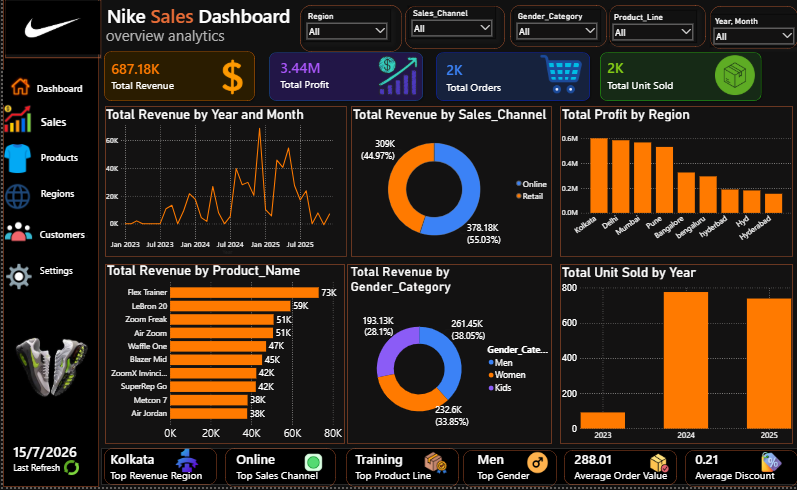

The dashboard page shown, as its layout file describes it:
{"tool":"powerbi","page":{"name":"Page 1","canvas":[2270,1400],"ordinal":0},"visuals":[{"type":"shape","box":[1591.4,311.4,665.7,431.4],"z":0},{"type":"shape","box":[848.6,22.9,291.4,134.3],"z":1000},{"type":"shape","box":[1148.6,25.7,285.7,122.9],"z":2000},{"type":"shape","box":[1448.6,22.9,277.1,120],"z":3000},{"type":"shape","box":[1731.4,22.9,277.1,120],"z":4000},{"type":"shape","box":[2020,25.7,251.4,122.9],"z":5000},{"type":"shape","box":[280,1288.6,1991.4,105.7],"z":6000},{"type":"shape","box":[288.6,1288.6,322.9,105.7],"z":7000},{"type":"shape","box":[634.3,1288.6,317.1,111.4],"z":8000},{"type":"shape","box":[980,1288.6,322.9,111.4],"z":9000},{"type":"shape","box":[1314.3,1294.3,268.6,105.7],"z":10000},{"type":"shape","box":[1602.9,1294.3,322.9,100],"z":11000},{"type":"shape","box":[1948.6,1294.3,322.9,105.7],"z":12000},{"type":"shape","box":[1591.4,762.9,665.7,514.3],"z":13000},{"type":"shape","box":[994.3,762.9,574.3,514.3],"z":14000},{"type":"shape","box":[291.4,762.9,685.7,514.3],"z":15000},{"type":"shape","box":[994.3,311.4,574.3,431.4],"z":16000},{"type":"shape","box":[291.4,311.4,691.4,431.4],"z":17000},{"type":"shape","box":[0,0,274.3,1400],"z":18000},{"type":"image","box":[5.9,0,244.1,220.6],"z":19000},{"type":"image","box":[0,174.3,100,168.6],"z":20000},{"type":"textbox","box":[91.4,237.1,151.4,60],"z":21000},{"type":"image","box":[0,305.7,82.9,82.9],"z":22000},{"type":"textbox","box":[102.9,328.6,131.4,60],"z":23000},{"type":"image","box":[0,420,82.9,82.9],"z":24000},{"type":"textbox","box":[102.9,434.3,131.4,57.1],"z":25000},{"type":"image","box":[0,528.6,82.9,82.9],"z":26000},{"type":"textbox","box":[102.9,537.1,131.4,62.9],"z":27000},{"type":"textbox","box":[100,770.6,173.5,58.8],"z":28000},{"type":"image","box":[2.9,628.6,82.9,82.9],"z":29000},{"type":"image","box":[0,757.1,91.4,82.9],"z":30000},{"type":"textbox","box":[100,654.3,174.3,57.1],"z":31000},{"type":"image","box":[0,840,274.3,437.1],"z":32000},{"type":"textbox","box":[289.8,73.6,549.7,73.6],"z":33000},{"type":"textbox","box":[290.6,10,558.9,103.5],"z":34000},{"type":"slicer","fields":{"Values":["Nike_Sales_Uncleaned.Region"]},"box":[857.1,34.3,251.4,94.3],"z":35000},{"type":"slicer","fields":{"Values":["Nike_Sales_Uncleaned.Sales_Channel"]},"box":[1157.1,25.7,251.4,94.3],"z":36000},{"type":"slicer","fields":{"Values":["Nike_Sales_Uncleaned.Gender_Category"]},"box":[1457.1,34.3,251.4,94.3],"z":37000},{"type":"slicer","fields":{"Values":["Nike_Sales_Uncleaned.Product_Line"]},"box":[1731.4,37.1,251.4,94.3],"z":38000},{"type":"shape","box":[751.5,148.5,457.6,157.6],"z":39000},{"type":"shape","box":[278.8,145.5,448.5,160.6],"z":40000},{"type":"shape","box":[1227.3,148.5,457.6,157.6],"z":41000},{"type":"shape","box":[1697,148.5,478.8,157.6],"z":42000},{"type":"cardVisual","fields":{"Data":["Nike_Sales_Uncleaned.Total Revenue"]},"box":[278.8,160.6,245.5,127.3],"z":43000},{"type":"cardVisual","fields":{"Data":["Nike_Sales_Uncleaned.Total Profit"]},"box":[762.9,157.1,451.4,128.6],"z":44000},{"type":"cardVisual","fields":{"Data":["Nike_Sales_Uncleaned.Total Orders"]},"box":[1237.1,148.6,420,157.1],"z":45000},{"type":"cardVisual","fields":{"Data":["Nike_Sales_Uncleaned.Total Unit Sold"]},"box":[1697,148.5,451.5,148.5],"z":46000},{"type":"lineChart","fields":{"Category":["Nike_Sales_Uncleaned.Order_Date.Variation.Date Hierarchy.Year","Nike_Sales_Uncleaned.Order_Date.Variation.Date Hierarchy.Month"],"Y":["Nike_Sales_Uncleaned.Total Revenue"]},"box":[288.6,311.4,688.6,431.4],"z":47000},{"type":"donutChart","fields":{"Category":["Nike_Sales_Uncleaned.Sales_Channel"],"Y":["Nike_Sales_Uncleaned.Total Revenue"]},"box":[994.3,311.4,574.3,431.4],"z":48000},{"type":"clusteredBarChart","fields":{"Category":["Nike_Sales_Uncleaned.Product_Name"],"Y":["Nike_Sales_Uncleaned.Total Revenue"]},"box":[291.4,762.9,691.4,514.3],"z":49000},{"type":"columnChart","fields":{"Y":["Nike_Sales_Uncleaned.Total Unit Sold"],"Category":["Nike_Sales_Uncleaned.Order_Date.Variation.Date Hierarchy.Year","Nike_Sales_Uncleaned.Order_Date.Variation.Date Hierarchy.Month"]},"box":[1591.4,762.9,665.7,514.3],"z":50000},{"type":"columnChart","fields":{"Category":["Nike_Sales_Uncleaned.Region"],"Y":["Nike_Sales_Uncleaned.Total Profit"]},"box":[1591.4,311.4,665.7,411.4],"z":51000},{"type":"donutChart","fields":{"Category":["Nike_Sales_Uncleaned.Gender_Category"],"Y":["Nike_Sales_Uncleaned.Total Revenue"]},"box":[994.3,762.9,574.3,514.3],"z":52000},{"type":"image","box":[602.9,160,105.7,137.1],"z":53000},{"type":"image","box":[1071.4,160,114.3,128.6],"z":54000},{"type":"image","box":[1531.4,154.3,125.7,131.4],"z":55000},{"type":"image","box":[2034.3,157.1,114.3,131.4],"z":56000},{"type":"cardVisual","fields":{"Data":["Nike_Sales_Uncleaned.Last Refresh"]},"box":[0,1237.1,251.4,157.1],"z":57000},{"type":"slicer","fields":{"Values":["Nike_Sales_Uncleaned.Order_Date.Variation.Date Hierarchy.Year","Nike_Sales_Uncleaned.Order_Date.Variation.Date Hierarchy.Month"]},"box":[2020,48.6,251.4,94.3],"z":58000},{"type":"cardVisual","fields":{"Data":["Nike_Sales_Uncleaned.Top Revenue Region"]},"box":[277.1,1277.1,325.7,122.9],"z":59000},{"type":"cardVisual","fields":{"Data":["Nike_Sales_Uncleaned.Top Sales Channel"]},"box":[637.1,1277.1,317.1,122.9],"z":60000},{"type":"cardVisual","fields":{"Data":["Nike_Sales_Uncleaned.Top Product Line"]},"box":[977.1,1277.1,328.6,122.9],"z":61000},{"type":"cardVisual","fields":{"Data":["Nike_Sales_Uncleaned.Top Gender"]},"box":[1325.7,1277.1,222.9,122.9],"z":62000},{"type":"cardVisual","fields":{"Data":["Nike_Sales_Uncleaned.Average Discount"]},"box":[1948.6,1277.1,322.9,122.9],"z":63000},{"type":"cardVisual","fields":{"Data":["Nike_Sales_Uncleaned.Average Order Value"]},"box":[1602.9,1277.1,334.3,122.9],"z":64000},{"type":"image","box":[485.7,1288.6,80,71.4],"z":65000},{"type":"image","box":[840,1302.9,94.3,54.3],"z":66000},{"type":"image","box":[1182.9,1294.3,108.6,74.3],"z":67000},{"type":"image","box":[1485.7,1297.1,82.9,65.7],"z":68000},{"type":"image","box":[1825.7,1300,100,62.9],"z":69000},{"type":"image","box":[2148.6,1300,94.3,57.1],"z":70000},{"type":"image","box":[157.1,1320,77.1,48.6],"z":71000}]}

Visuals, with their boxes on the page's 2270x1400 design canvas (x1, y1, x2, y2). These are canvas units, not pixel positions in the 797x490 screenshot, which may show the page scaled, cropped or inside an application window:
shape: BBox(1591, 311, 2257, 743)
shape: BBox(849, 23, 1140, 157)
shape: BBox(1149, 26, 1434, 149)
shape: BBox(1449, 23, 1726, 143)
shape: BBox(1731, 23, 2008, 143)
shape: BBox(2020, 26, 2271, 149)
shape: BBox(280, 1289, 2271, 1394)
shape: BBox(289, 1289, 612, 1394)
shape: BBox(634, 1289, 951, 1400)
shape: BBox(980, 1289, 1303, 1400)
shape: BBox(1314, 1294, 1583, 1400)
shape: BBox(1603, 1294, 1926, 1394)
shape: BBox(1949, 1294, 2272, 1400)
shape: BBox(1591, 763, 2257, 1277)
shape: BBox(994, 763, 1569, 1277)
shape: BBox(291, 763, 977, 1277)
shape: BBox(994, 311, 1569, 743)
shape: BBox(291, 311, 983, 743)
shape: BBox(0, 0, 274, 1400)
image: BBox(6, 0, 250, 221)
image: BBox(0, 174, 100, 343)
textbox: BBox(91, 237, 243, 297)
image: BBox(0, 306, 83, 389)
textbox: BBox(103, 329, 234, 389)
image: BBox(0, 420, 83, 503)
textbox: BBox(103, 434, 234, 491)
image: BBox(0, 529, 83, 612)
textbox: BBox(103, 537, 234, 600)
textbox: BBox(100, 771, 274, 829)
image: BBox(3, 629, 86, 712)
image: BBox(0, 757, 91, 840)
textbox: BBox(100, 654, 274, 711)
image: BBox(0, 840, 274, 1277)
textbox: BBox(290, 74, 840, 147)
textbox: BBox(291, 10, 850, 114)
slicer - Nike_Sales_Uncleaned.Region: BBox(857, 34, 1108, 129)
slicer - Nike_Sales_Uncleaned.Sales_Channel: BBox(1157, 26, 1408, 120)
slicer - Nike_Sales_Uncleaned.Gender_Category: BBox(1457, 34, 1708, 129)
slicer - Nike_Sales_Uncleaned.Product_Line: BBox(1731, 37, 1983, 131)
shape: BBox(752, 148, 1209, 306)
shape: BBox(279, 146, 727, 306)
shape: BBox(1227, 148, 1685, 306)
shape: BBox(1697, 148, 2176, 306)
cardVisual - Nike_Sales_Uncleaned.Total Revenue: BBox(279, 161, 524, 288)
cardVisual - Nike_Sales_Uncleaned.Total Profit: BBox(763, 157, 1214, 286)
cardVisual - Nike_Sales_Uncleaned.Total Orders: BBox(1237, 149, 1657, 306)
cardVisual - Nike_Sales_Uncleaned.Total Unit Sold: BBox(1697, 148, 2148, 297)
lineChart - Nike_Sales_Uncleaned.Order_Date.Variation.Date Hierarchy.Year x Nike_Sales_Uncleaned.Order_Date.Variation.Date Hierarchy.Month: BBox(289, 311, 977, 743)
donutChart - Nike_Sales_Uncleaned.Sales_Channel x Nike_Sales_Uncleaned.Total Revenue: BBox(994, 311, 1569, 743)
clusteredBarChart - Nike_Sales_Uncleaned.Product_Name x Nike_Sales_Uncleaned.Total Revenue: BBox(291, 763, 983, 1277)
columnChart - Nike_Sales_Uncleaned.Total Unit Sold x Nike_Sales_Uncleaned.Order_Date.Variation.Date Hierarchy.Year: BBox(1591, 763, 2257, 1277)
columnChart - Nike_Sales_Uncleaned.Region x Nike_Sales_Uncleaned.Total Profit: BBox(1591, 311, 2257, 723)
donutChart - Nike_Sales_Uncleaned.Gender_Category x Nike_Sales_Uncleaned.Total Revenue: BBox(994, 763, 1569, 1277)
image: BBox(603, 160, 709, 297)
image: BBox(1071, 160, 1186, 289)
image: BBox(1531, 154, 1657, 286)
image: BBox(2034, 157, 2149, 288)
cardVisual - Nike_Sales_Uncleaned.Last Refresh: BBox(0, 1237, 251, 1394)
slicer - Nike_Sales_Uncleaned.Order_Date.Variation.Date Hierarchy.Year x Nike_Sales_Uncleaned.Order_Date.Variation.Date Hierarchy.Month: BBox(2020, 49, 2271, 143)
cardVisual - Nike_Sales_Uncleaned.Top Revenue Region: BBox(277, 1277, 603, 1400)
cardVisual - Nike_Sales_Uncleaned.Top Sales Channel: BBox(637, 1277, 954, 1400)
cardVisual - Nike_Sales_Uncleaned.Top Product Line: BBox(977, 1277, 1306, 1400)
cardVisual - Nike_Sales_Uncleaned.Top Gender: BBox(1326, 1277, 1549, 1400)
cardVisual - Nike_Sales_Uncleaned.Average Discount: BBox(1949, 1277, 2272, 1400)
cardVisual - Nike_Sales_Uncleaned.Average Order Value: BBox(1603, 1277, 1937, 1400)
image: BBox(486, 1289, 566, 1360)
image: BBox(840, 1303, 934, 1357)
image: BBox(1183, 1294, 1292, 1369)
image: BBox(1486, 1297, 1569, 1363)
image: BBox(1826, 1300, 1926, 1363)
image: BBox(2149, 1300, 2243, 1357)
image: BBox(157, 1320, 234, 1369)
